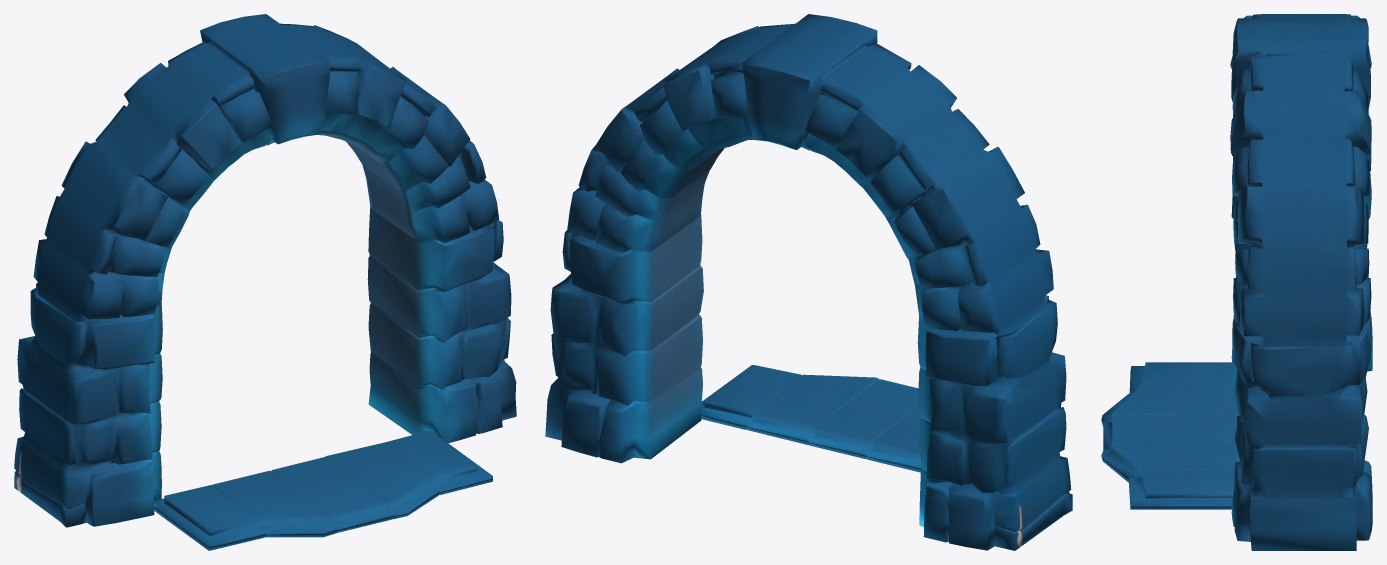
The model's file is portal.glb.
The picture shows the model from 3 angles, left to right: view 1: azimuth 30°, elevation 25°; view 2: azimuth 150°, elevation 25°; view 3: azimuth 270°, elevation 25°; orthographic projection. The views are drawn at different scales.
Size of the model in its own units: 0.9551 by 0.8306 by 0.499.
Materials: 1 (1 with a texture image).
